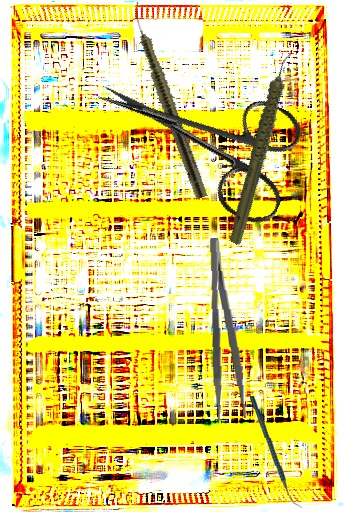Chopper: (250, 394, 302, 510)
Dressing Forceps: (205, 236, 248, 420)
Handpiece: (191, 49, 336, 247), (124, 0, 211, 200)
Iris Scissors: (76, 40, 315, 230)
